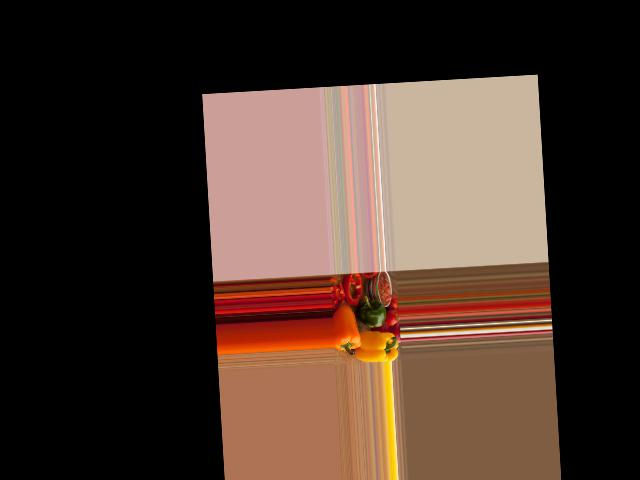bell_pepper: (361, 328, 398, 362)
